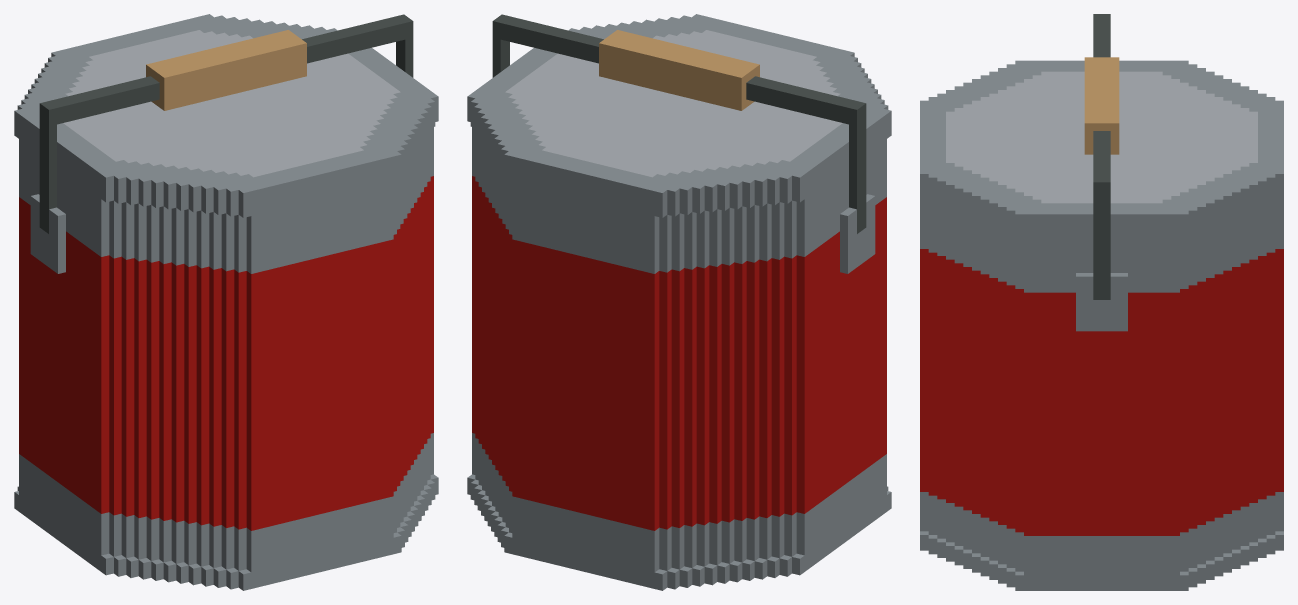
The model's file is paint_can_steel.glb.
The picture shows the model from 3 angles, left to right: view 1: azimuth 30°, elevation 25°; view 2: azimuth 150°, elevation 25°; view 3: azimuth 270°, elevation 25°; orthographic projection. The views are drawn at different scales.
Visible parts, largest first — view 1: paint_can_steel:compound; view 2: paint_can_steel:compound; view 3: paint_can_steel:compound.
Part boxes in pixels (x1=…): paint_can_steel:compound: x1=14, y1=14, x2=438, y2=590; paint_can_steel:compound: x1=467, y1=14, x2=891, y2=590; paint_can_steel:compound: x1=920, y1=14, x2=1283, y2=590.
Size of the model in its own units: 0.184 by 0.216 by 0.168.
